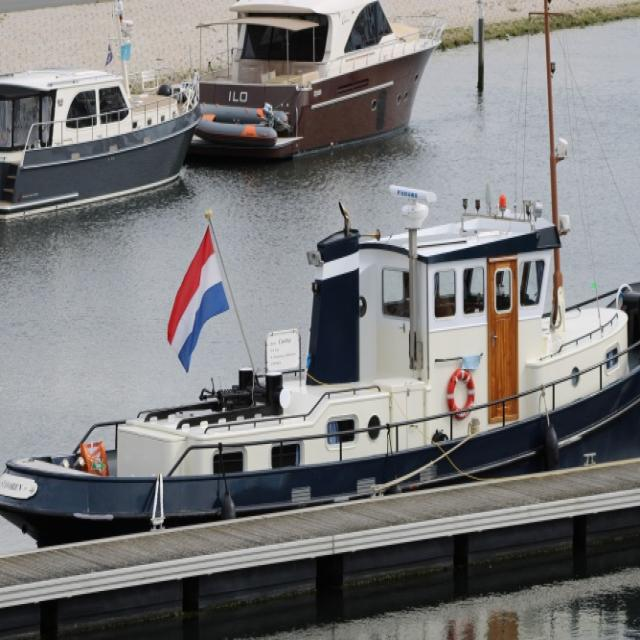tugboat: (1, 177, 640, 567)
